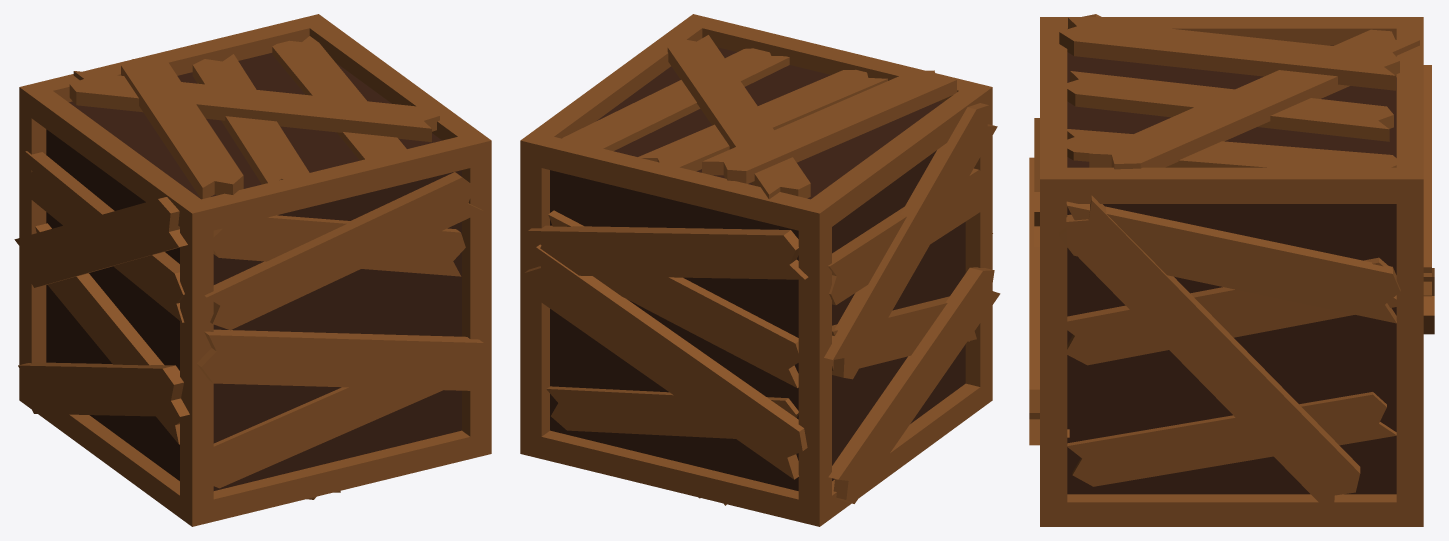
The model's file is caja peque.fbx.
3 renders of one model, left to right at view 1: azimuth 30°, elevation 25°; view 2: azimuth 150°, elevation 25°; view 3: azimuth 270°, elevation 25°, orthographic. The views are drawn at different scales.
Parts seen in each view (by area): view 1: caja pequeña; view 2: caja pequeña; view 3: caja pequeña.
Part boxes in pixels (x1,y1,x2,y2): caja pequeña: (14,14,491,526); caja pequeña: (520,14,1000,526); caja pequeña: (1029,14,1434,526).
Bounding box in the file's own units: 117 × 118 × 116.
